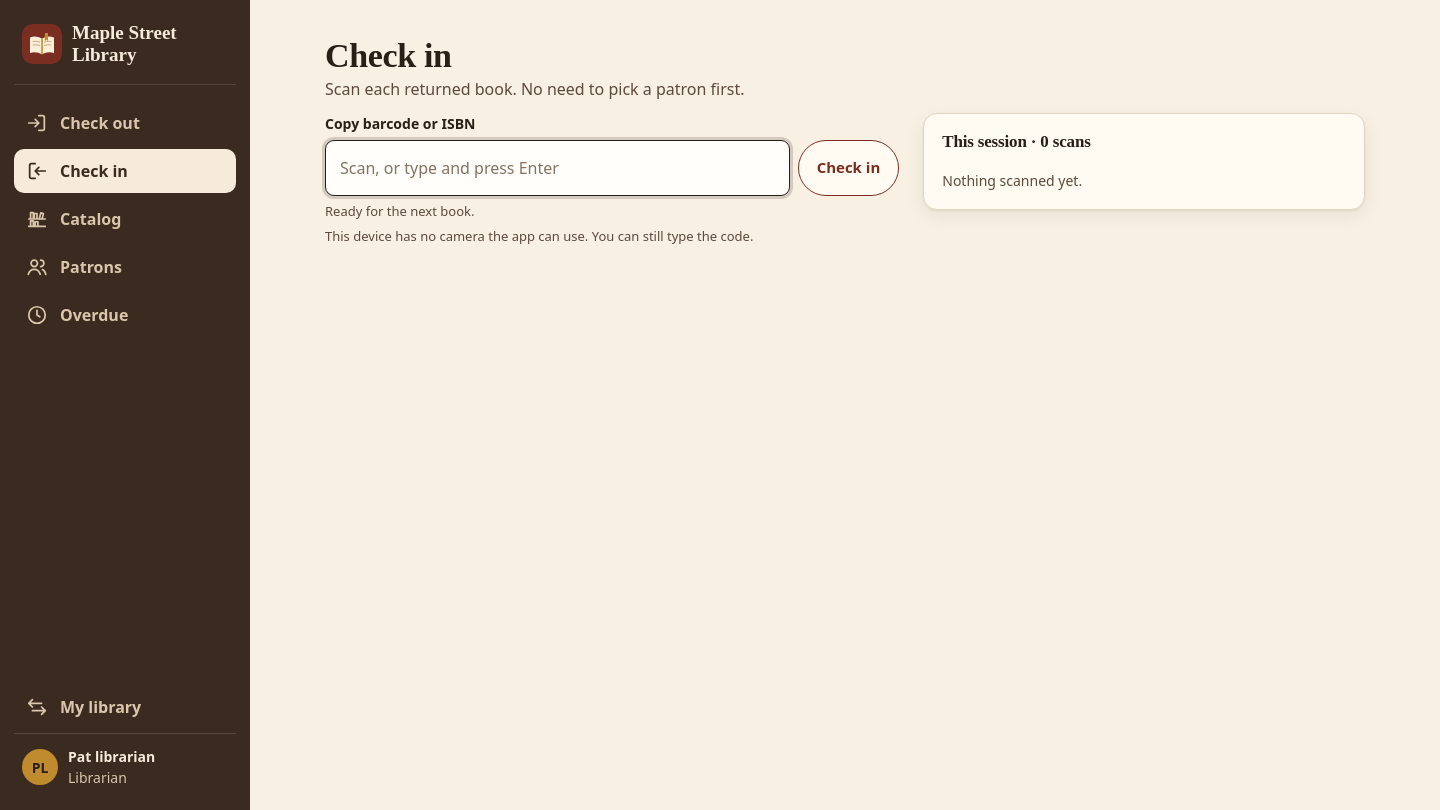
Test: CIRC-2 Check in › Several out by ISBN › the choice shows patron and copy number, and only the chosen loan is returned
In the field: {"x": 557, "y": 168} [325,140,790,196], type "9780141439518"
Then press Enter
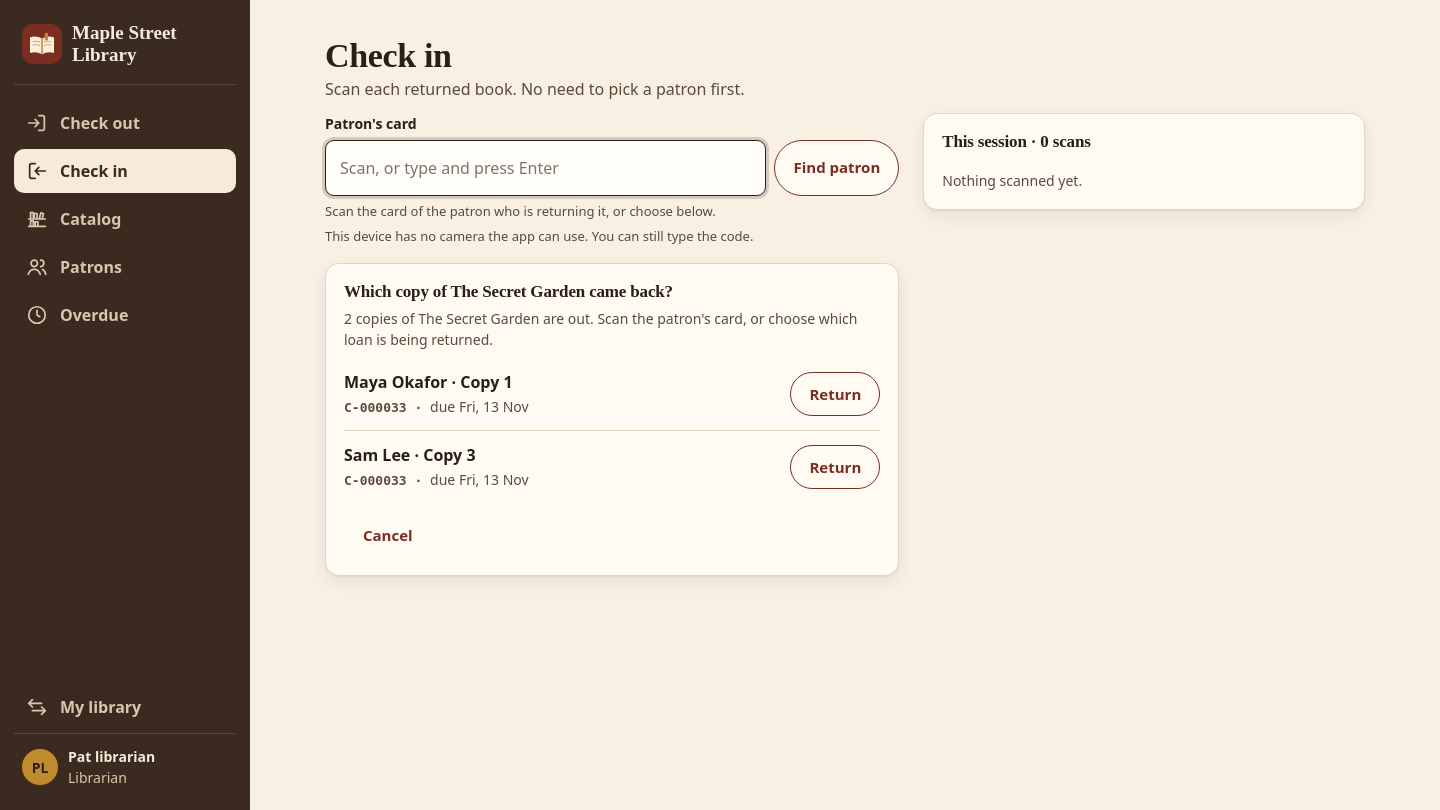
Check: the text "2 copies of The Secret Garden are out" is shown, box [344,309,857,349]
Check: the text "Maya Okafor · Copy 1" is shown, box [344,371,513,393]
Check: the text "Sam Lee · Copy 3" is shown, box [344,444,476,466]
Click the button with aria-label "Return copy 3 from Sam Lee": {"x": 835, "y": 467} [790,445,880,489]
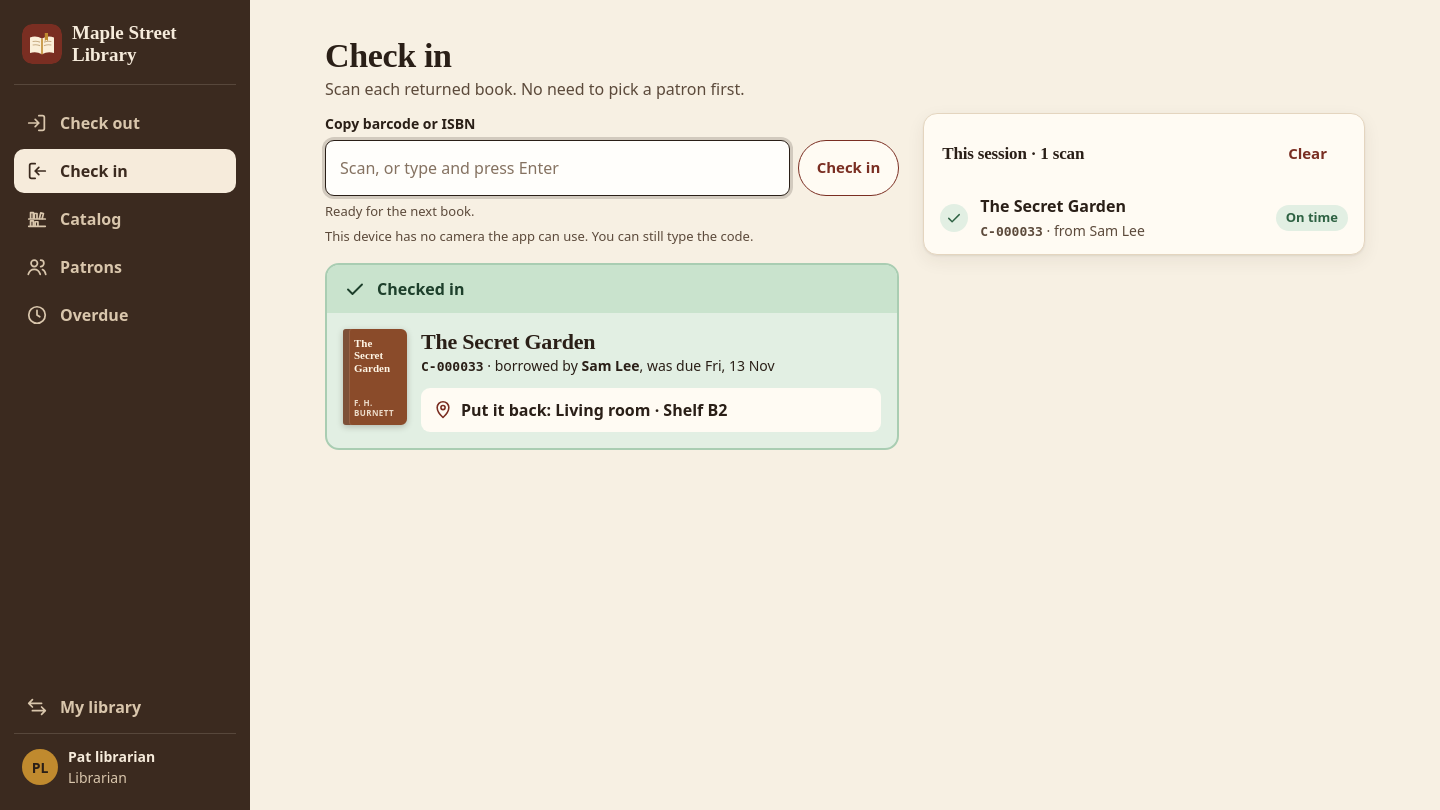
Check: the text "Maya Okafor · Copy 1" is gone
